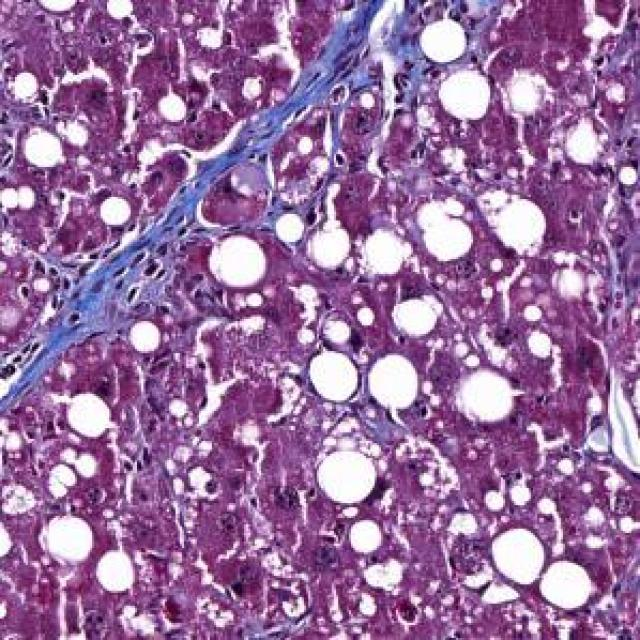fibrosis: (52, 188, 216, 340), (272, 15, 419, 122)
